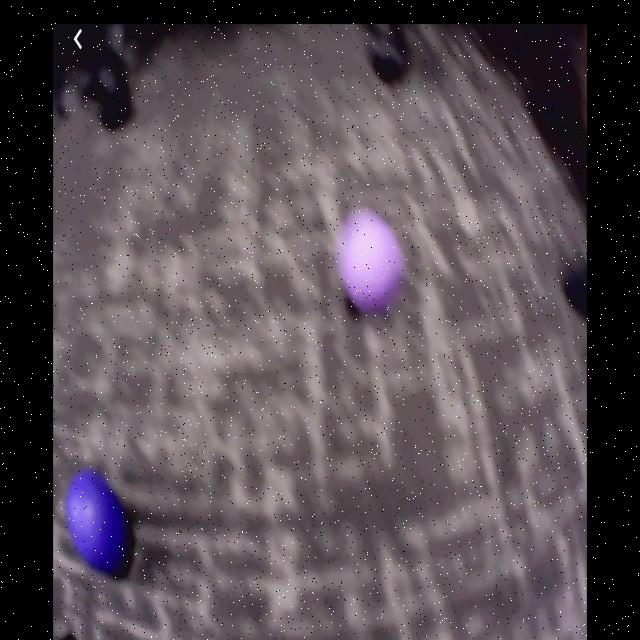ball: (67, 470, 131, 570), (339, 209, 398, 311)
